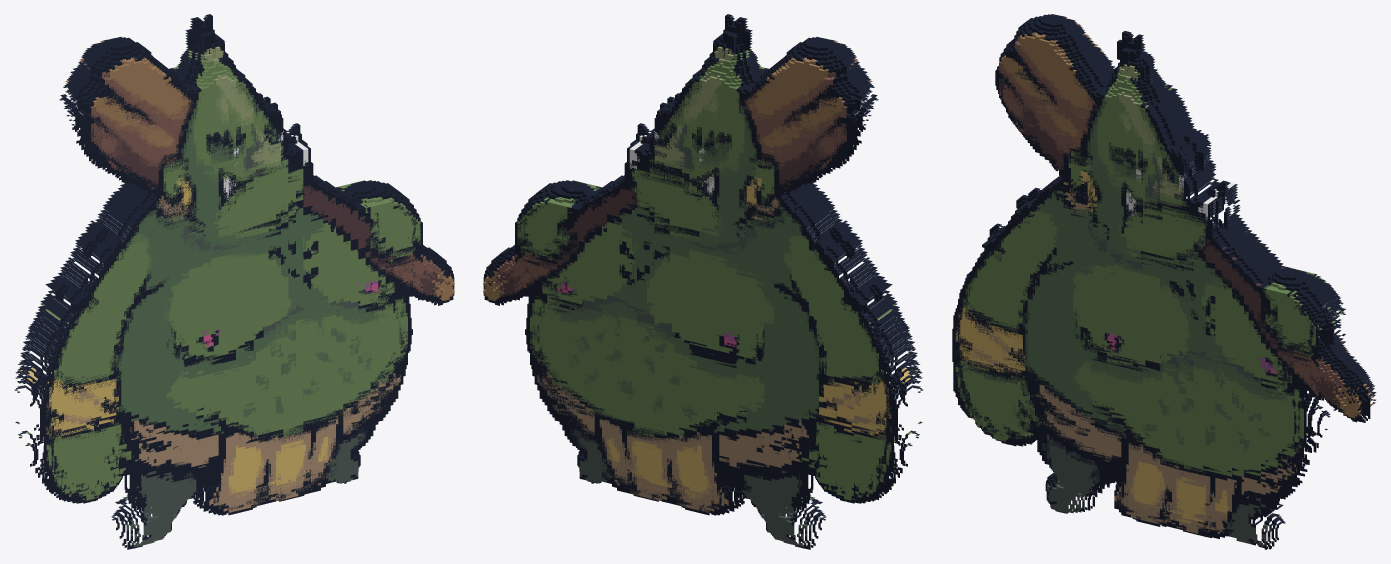
File: troll_parado.glb
The picture shows the model from 3 angles, left to right: view 1: azimuth 30°, elevation 25°; view 2: azimuth 150°, elevation 25°; view 3: azimuth 330°, elevation 25°; orthographic projection. The views are drawn at different scales.
Visible parts, largest first — view 1: q0, q2, q3, q4, q1, q6, q7, q5, q8, q9; view 2: q0, q2, q3, q4, q1, q6, q7, q5, q8, q9; view 3: q0, q2, q3, q4, q1, q6, q7, q8, q5, q9.
Part boxes in pixels (x1,y1,x2,y2): q0: (21, 14, 435, 549); q2: (18, 24, 441, 510); q3: (15, 27, 449, 513); q4: (14, 34, 452, 524); q1: (63, 17, 435, 465); q6: (15, 79, 454, 511); q7: (17, 22, 451, 516); q5: (37, 66, 454, 515); q8: (51, 63, 448, 507); q9: (63, 46, 444, 282); q0: (502, 14, 916, 549); q2: (496, 24, 919, 510); q3: (488, 28, 922, 511); q4: (485, 35, 923, 524); q1: (499, 17, 874, 458); q6: (483, 77, 922, 512); q7: (486, 21, 920, 516); q5: (483, 62, 901, 515); q8: (488, 63, 904, 505); q9: (493, 53, 874, 284); q0: (958, 14, 1357, 549); q2: (955, 26, 1344, 542); q3: (953, 29, 1369, 540); q4: (952, 39, 1373, 532); q1: (999, 15, 1364, 501); q6: (953, 55, 1376, 545); q7: (955, 39, 1373, 540); q8: (1001, 43, 1370, 533); q5: (960, 39, 1376, 536); q9: (999, 42, 1369, 397).
Bounding box in the file's own units: 170 × 196 × 20.
1 material, 1 textured.
